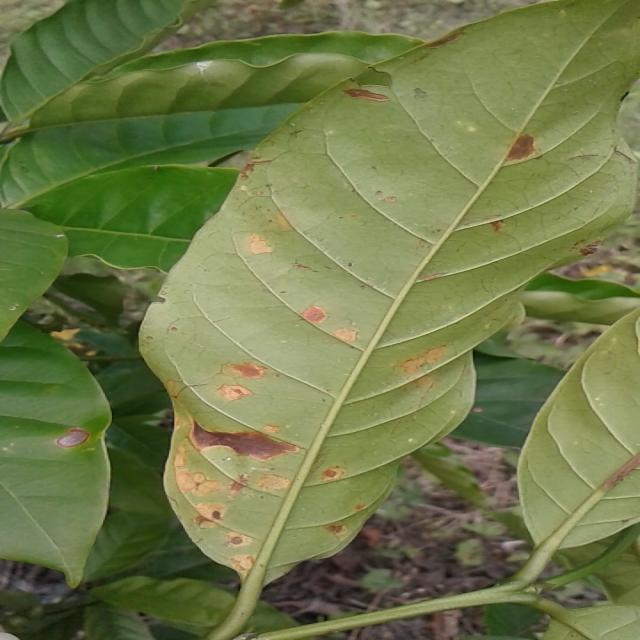Enfermedad-Roya: (137, 0, 640, 640)
